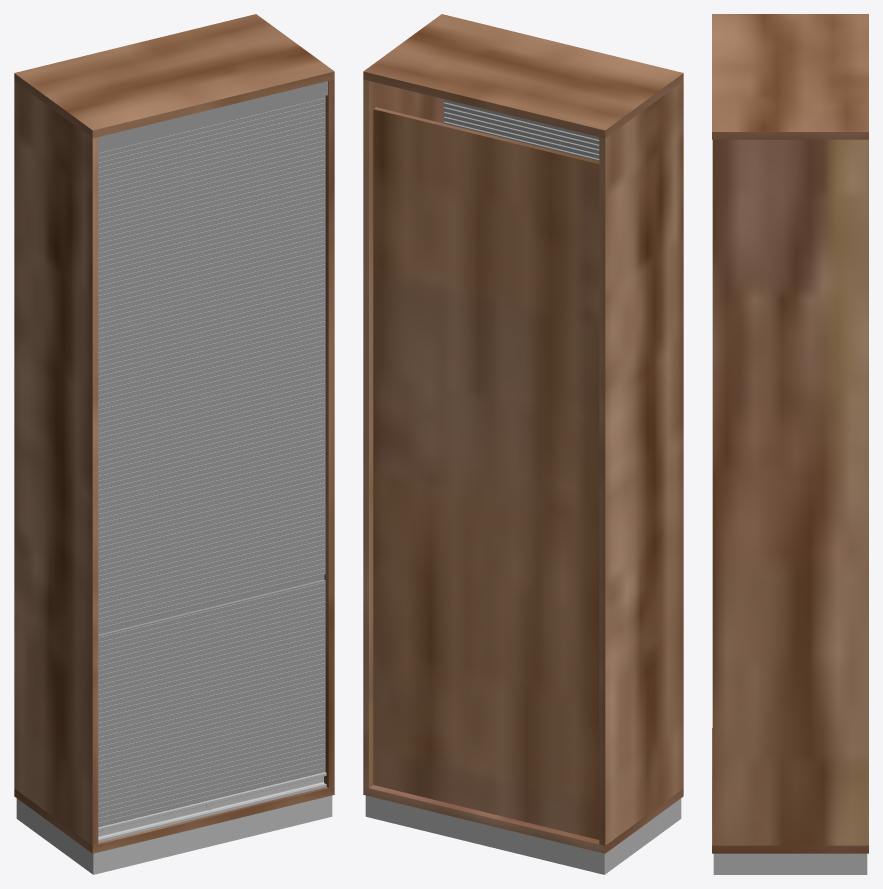
File: baseline_vertical_shutter_6OH_45x80_FIN.fbx
The picture shows the model from 3 angles, left to right: view 1: azimuth 30°, elevation 25°; view 2: azimuth 150°, elevation 25°; view 3: azimuth 270°, elevation 25°; orthographic projection.
Visible parts, largest first — view 1: shutter_mesh1, polySurface2, podstawa_mesh, handle_mesh; view 2: polySurface2, podstawa_mesh, shutter_mesh1; view 3: polySurface2, podstawa_mesh.
Part boxes in pixels (box(x1,y1,x2,y2)): shutter_mesh1: box(98, 81, 327, 827); polySurface2: box(14, 14, 334, 853); podstawa_mesh: box(16, 795, 332, 874); handle_mesh: box(98, 772, 326, 842); polySurface2: box(363, 14, 683, 853); podstawa_mesh: box(365, 795, 681, 874); shutter_mesh1: box(443, 99, 599, 161); polySurface2: box(712, 14, 868, 853); podstawa_mesh: box(713, 853, 867, 874).
Bounding box in the file's own units: 80 × 236 × 45.
